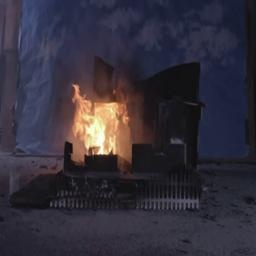fire: (61, 79, 132, 160)
